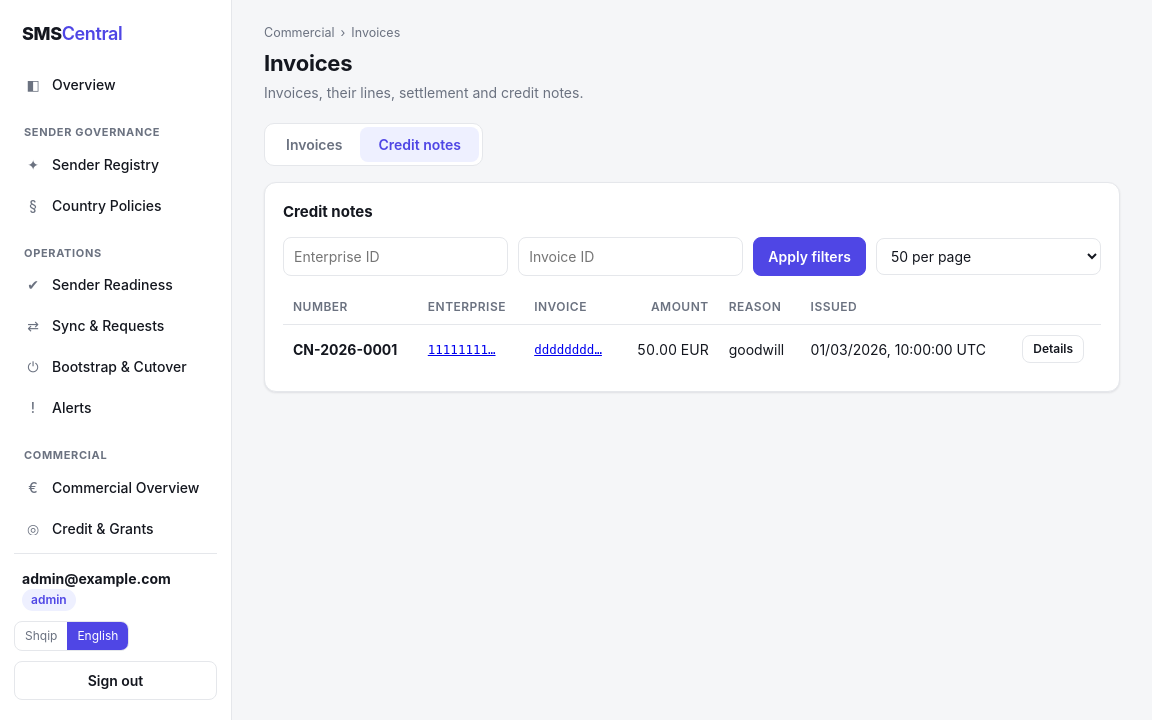
Test case: invoices › 32 credit notes tab lists and opens a read-only detail
Expected: the navigation bar named "Main navigation" is shown, x1=14 y1=65 x2=217 y2=535
Click the button with aria-label "Details for credit note CN-2026-0001" at coordinates (1053, 349), box x1=1022 y1=335 x2=1084 y2=363
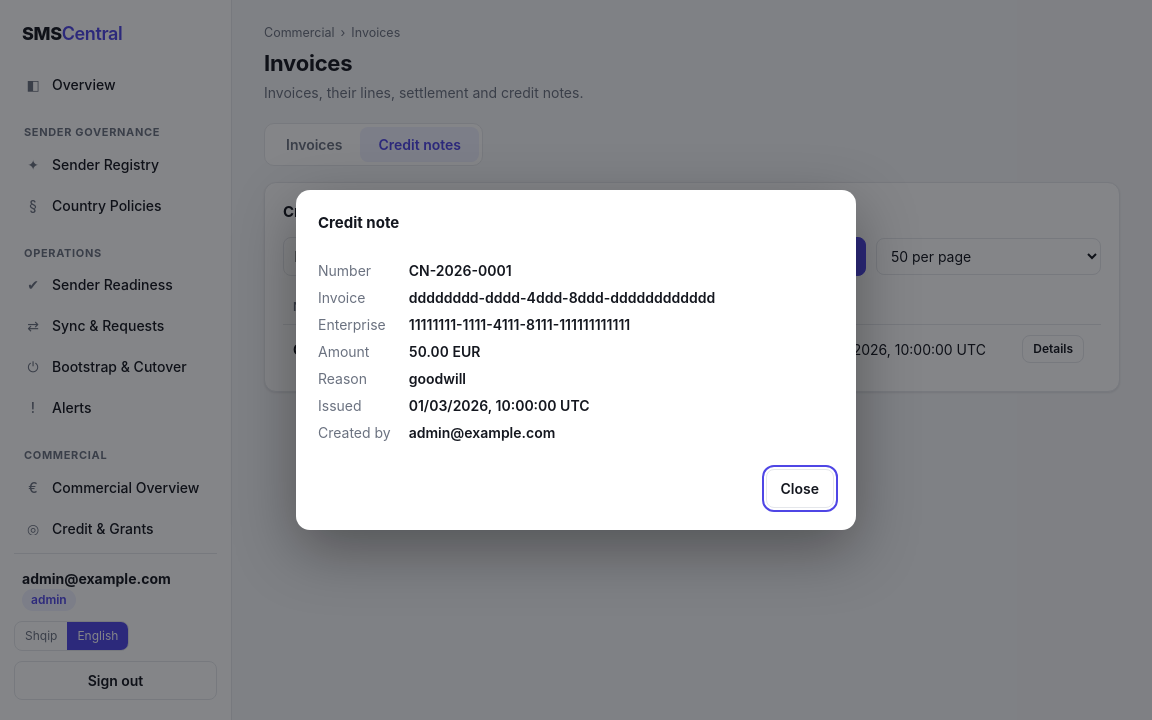
Expected: the text "goodwill" is shown, x1=409 y1=370 x2=466 y2=387
